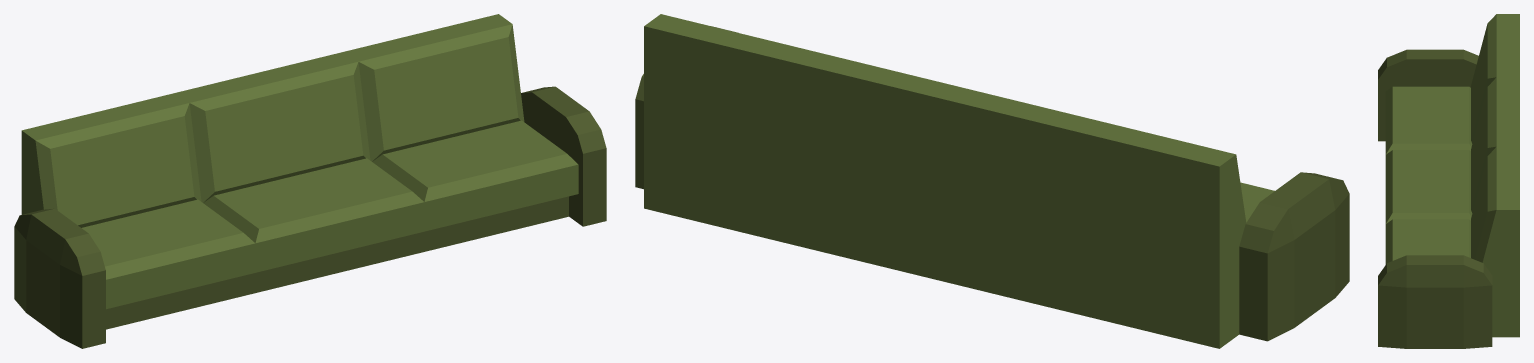
File: g_o_Sofa3_01.fbx
The picture shows the model from 3 angles, left to right: view 1: azimuth 30°, elevation 25°; view 2: azimuth 150°, elevation 25°; view 3: azimuth 270°, elevation 25°; orthographic projection. The views are drawn at different scales.
Parts seen in each view (by area): view 1: g_o_3SeatSofa_01; view 2: g_o_3SeatSofa_01; view 3: g_o_3SeatSofa_01.
Part boxes in pixels (<box>): g_o_3SeatSofa_01: <box>14,14,606,348</box>; g_o_3SeatSofa_01: <box>635,14,1349,348</box>; g_o_3SeatSofa_01: <box>1378,14,1519,348</box>.
Bounding box in the file's own units: 278 × 75.25 × 75.97.
